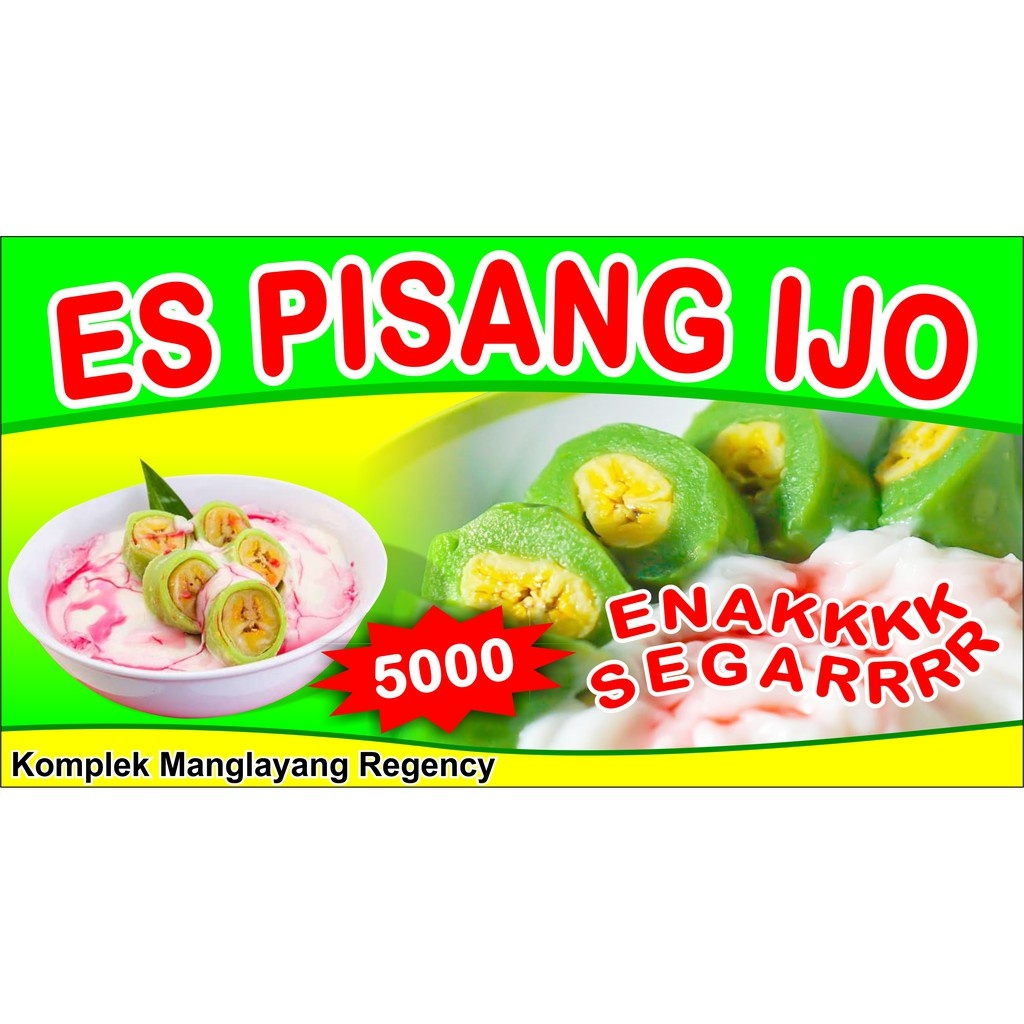es_pisang_ijo: (45, 494, 358, 666)
